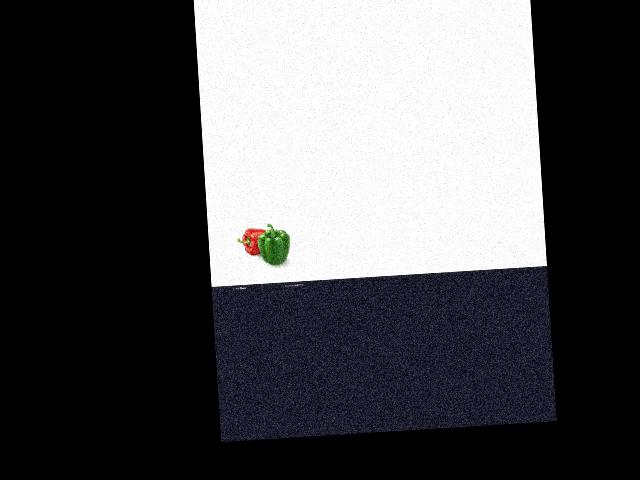bell_pepper: (236, 223, 268, 255)
